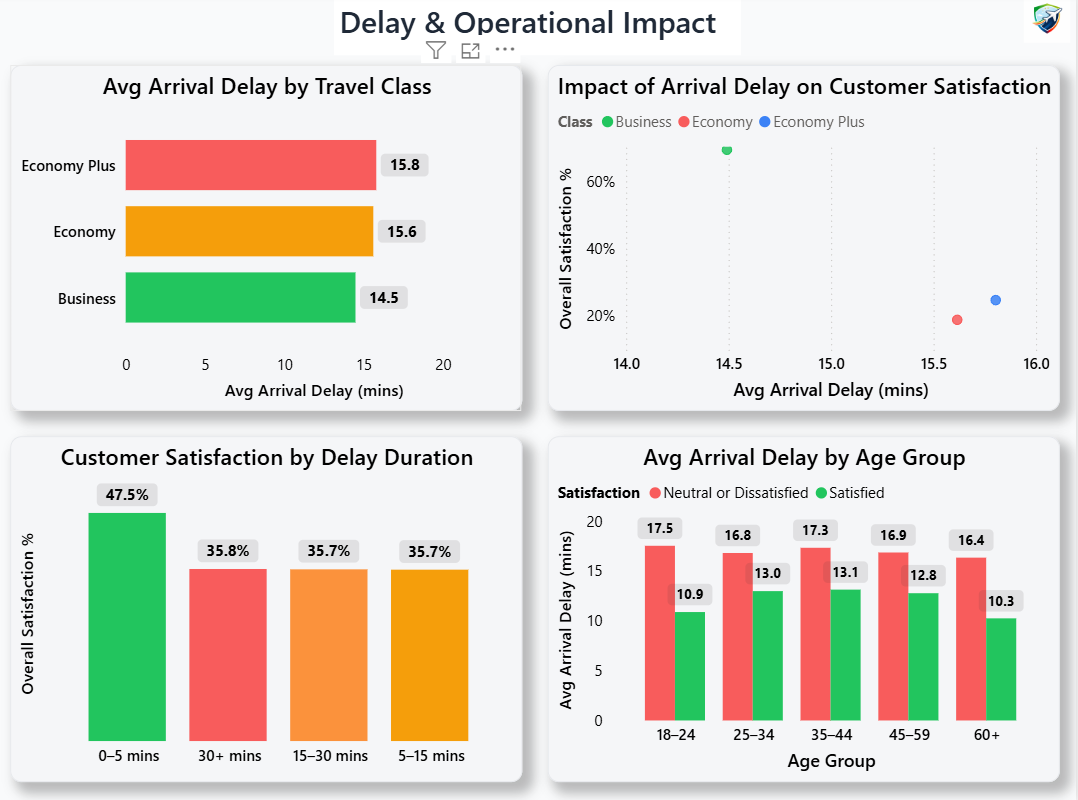

What the dashboard file says about the page in this screenshot:
{"tool":"powerbi","page":{"name":"Delay & Operational Impact","canvas":[960,720],"ordinal":2},"visuals":[{"type":"textbox","box":[298.9,0,362.3,53.5],"z":0},{"type":"clusteredColumnChart","title":"Customer Satisfaction by Delay Duration","fields":{"Category":["airline_passenger_satisfaction.Delay Bucket"],"Y":["airline_passenger_satisfaction.Overall Satisfaction %"]},"box":[9.7,393.3,456,307.6],"z":1000},{"type":"clusteredBarChart","title":"Avg Arrival Delay by Travel Class","fields":{"Y":["airline_passenger_satisfaction.Avg Arrival Delay (mins)"],"Category":["airline_passenger_satisfaction.Class"]},"box":[9.7,62.7,456,307.6],"z":2000},{"type":"scatterChart","title":"Impact of Arrival Delay on Customer Satisfaction","fields":{"X":["airline_passenger_satisfaction.Avg Arrival Delay (mins)"],"Y":["airline_passenger_satisfaction.Overall Satisfaction %"],"Series":["airline_passenger_satisfaction.Class"]},"box":[488.6,62.7,456,307.6],"z":3000},{"type":"clusteredColumnChart","title":"Avg Arrival Delay by Age Group","fields":{"Category":["airline_passenger_satisfaction.Age Group"],"Y":["airline_passenger_satisfaction.Avg Arrival Delay (mins)"],"Series":["airline_passenger_satisfaction.Satisfaction"]},"box":[488.6,393.3,456,307.6],"z":4000},{"type":"image","box":[906,0,54.3,42.2],"z":5000}]}

Visuals, with their boxes in screenshot pixels (x1, y1, x2, y2), scaled from the page's 960x720 canvas onto the 1078x800 screenshot:
textbox: 336, 0, 742, 59
"Customer Satisfaction by Delay Duration" clusteredColumnChart: 11, 437, 523, 779
"Avg Arrival Delay by Travel Class" clusteredBarChart: 11, 70, 523, 411
"Impact of Arrival Delay on Customer Satisfaction" scatterChart: 549, 70, 1061, 411
"Avg Arrival Delay by Age Group" clusteredColumnChart: 549, 437, 1061, 779
image: 1017, 0, 1077, 47
